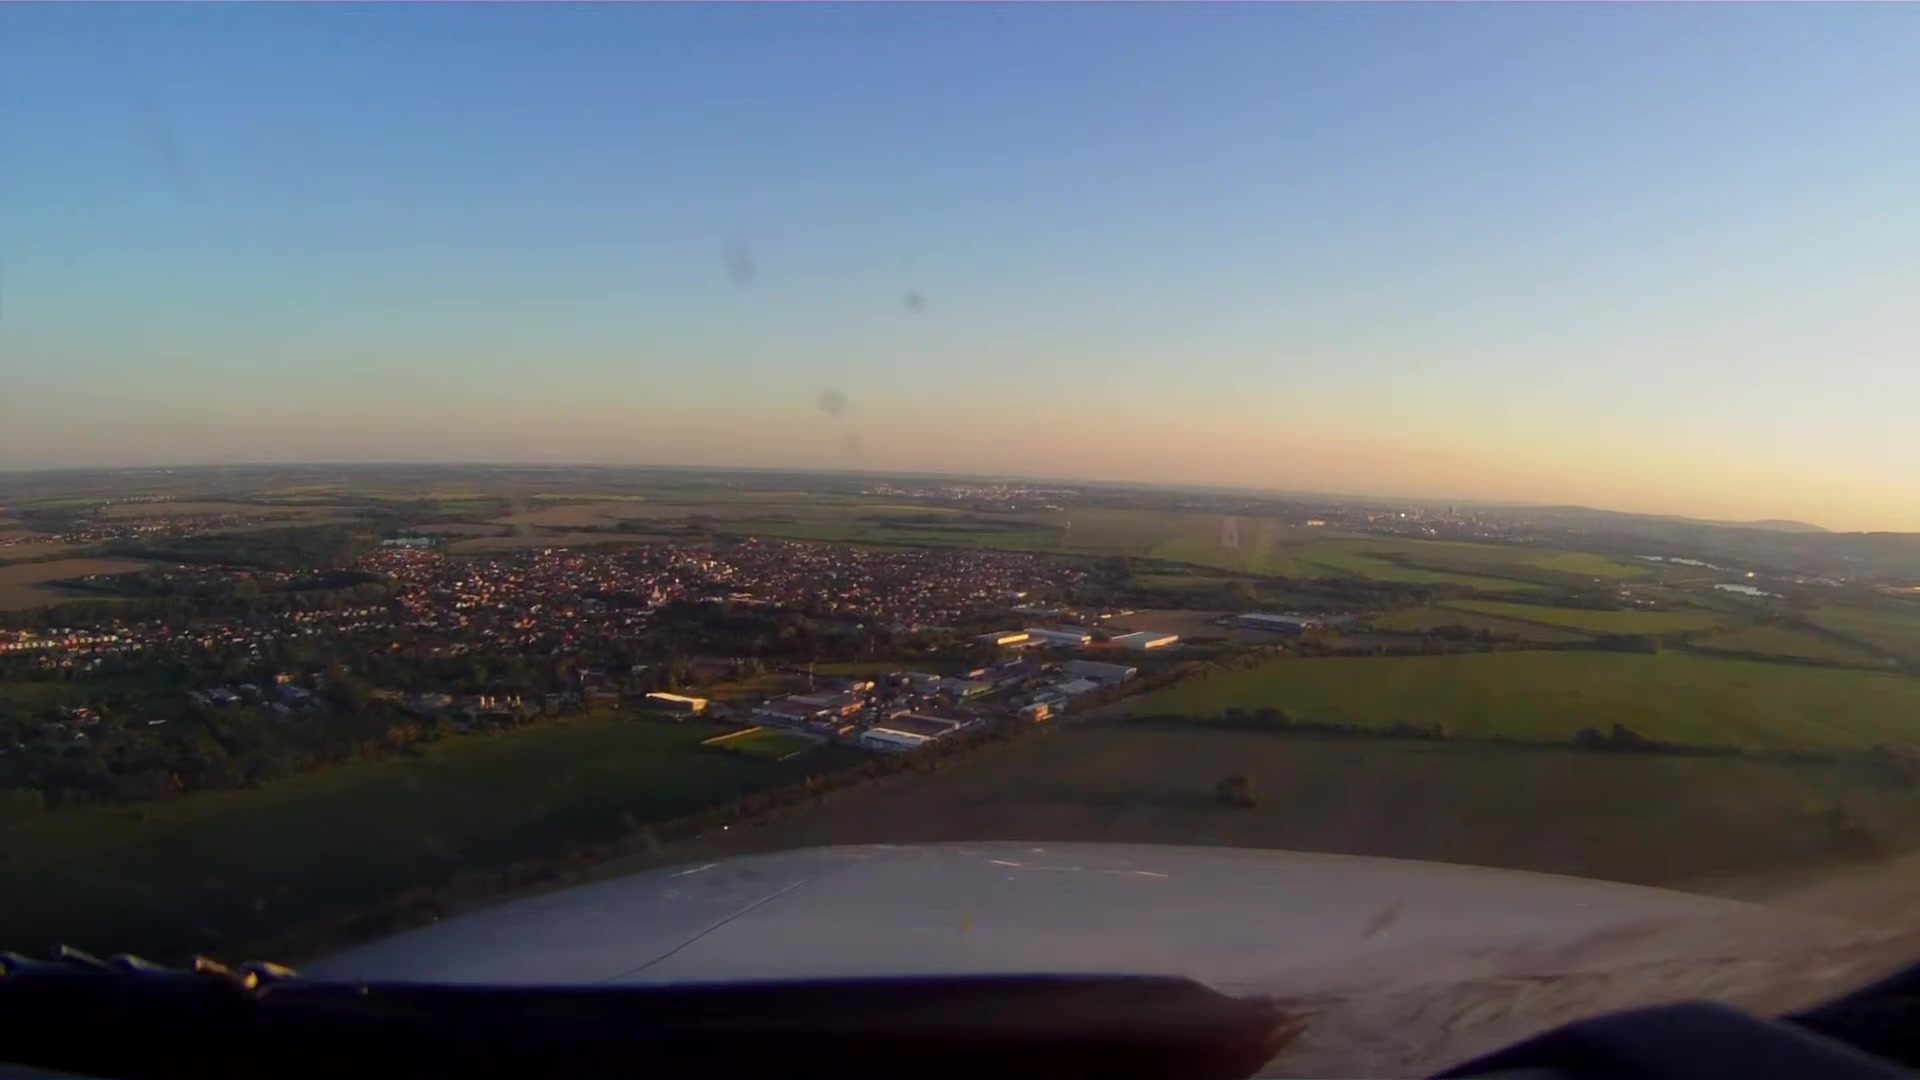runway: (1215, 517, 1240, 550)
